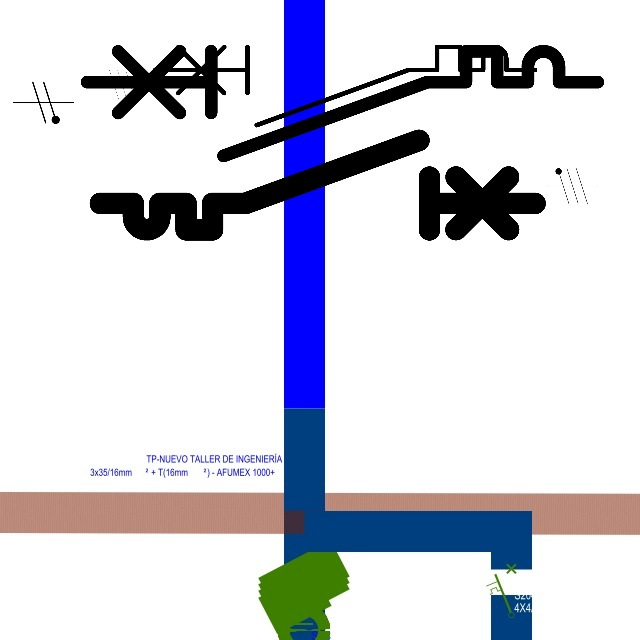interruptor_termomagnetico: (73, 38, 610, 169), (89, 129, 546, 241), (145, 37, 545, 135)
